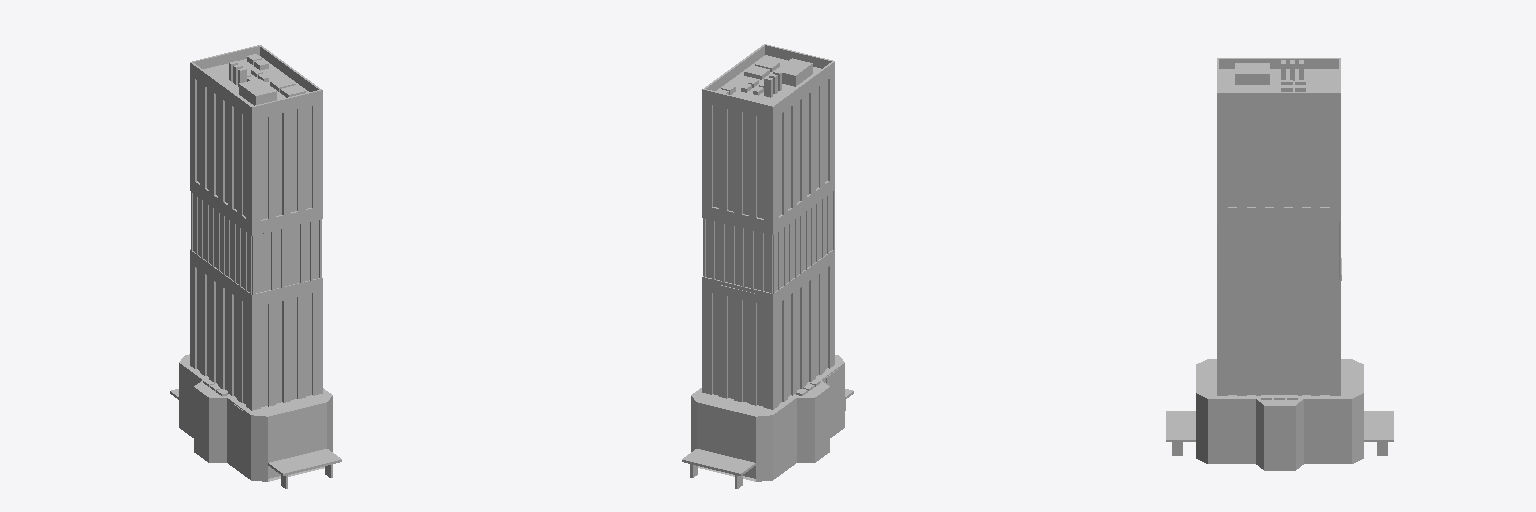
The model's file is Building_04.obj.
The picture shows the model from 3 angles: view 1: azimuth 30°, elevation 25°; view 2: azimuth 150°, elevation 25°; view 3: azimuth 270°, elevation 25°; orthographic projection.
Parts seen in each view (by area): view 1: Building_04.001; view 2: Building_04.001; view 3: Building_04.001.
Boxes of the visible parts, <box> form: Building_04.001: <box>170,45,341,488</box>; Building_04.001: <box>682,44,853,488</box>; Building_04.001: <box>1166,58,1393,470</box>.
Bounding box in the file's own units: 8.28 × 27.23 × 14.89.